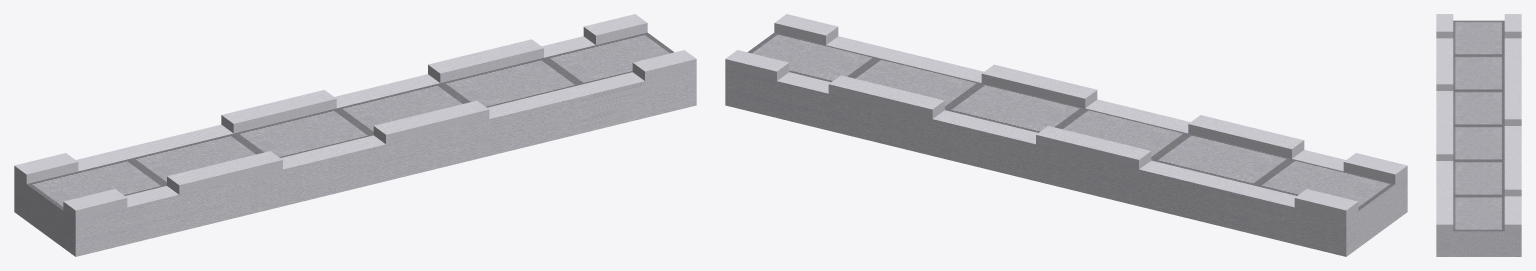
File: BomberMan_Stage_Bridge.fbx
3 renders of one model, left to right at view 1: azimuth 30°, elevation 25°; view 2: azimuth 150°, elevation 25°; view 3: azimuth 270°, elevation 25°, orthographic. The views are drawn at different scales.
Parts seen in each view (by area): view 1: pCube10; view 2: pCube10; view 3: pCube10.
Part boxes in pixels (left/top/right/bottom): pCube10: left=14, top=14, right=696, bottom=256; pCube10: left=725, top=14, right=1407, bottom=256; pCube10: left=1436, top=14, right=1521, bottom=256.
Size of the model in its own units: 26.65 by 1.91 by 4.57.
